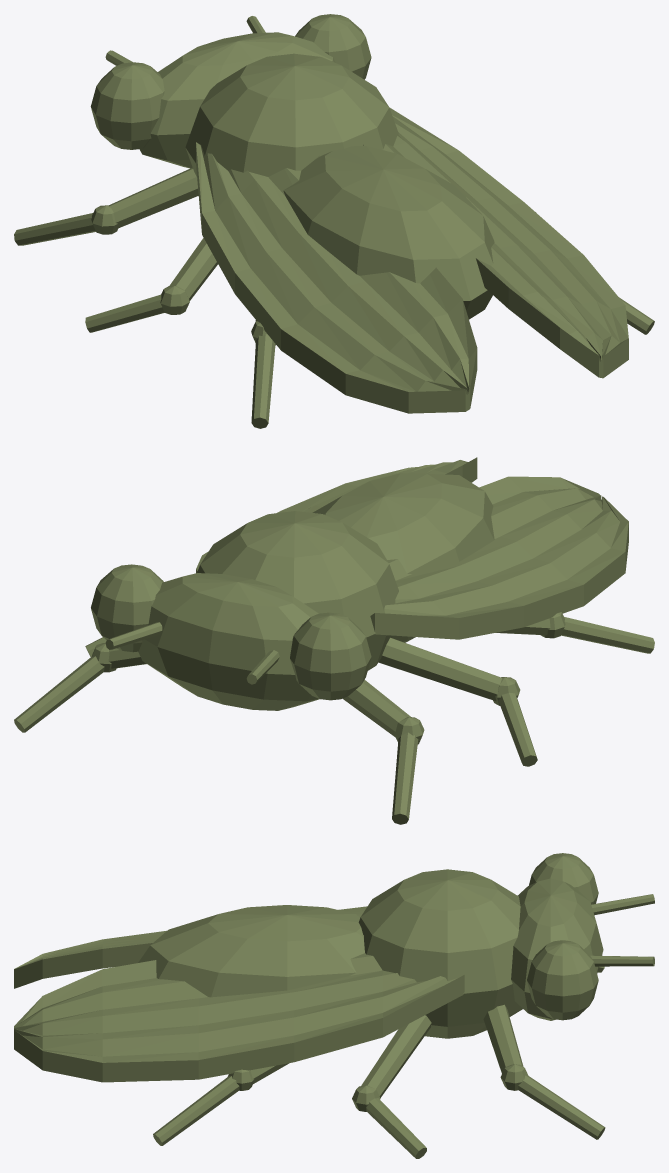
The model's file is NEW_RECOVERY_082_LOD0.fbx.
3 renders of one model, top to bottom at view 1: azimuth 30°, elevation 25°; view 2: azimuth 150°, elevation 25°; view 3: azimuth 270°, elevation 25°, orthographic. The views are drawn at different scales.
Parts seen in each view (by area): view 1: Cicada_whole; view 2: Cicada_whole; view 3: Cicada_whole.
Boxes of the visible parts, x1,y1,x2,y2 form: Cicada_whole: [14, 14, 654, 428]; Cicada_whole: [14, 457, 654, 824]; Cicada_whole: [14, 853, 654, 1158].
Bounding box in the file's own units: 196 × 267 × 83.98.
